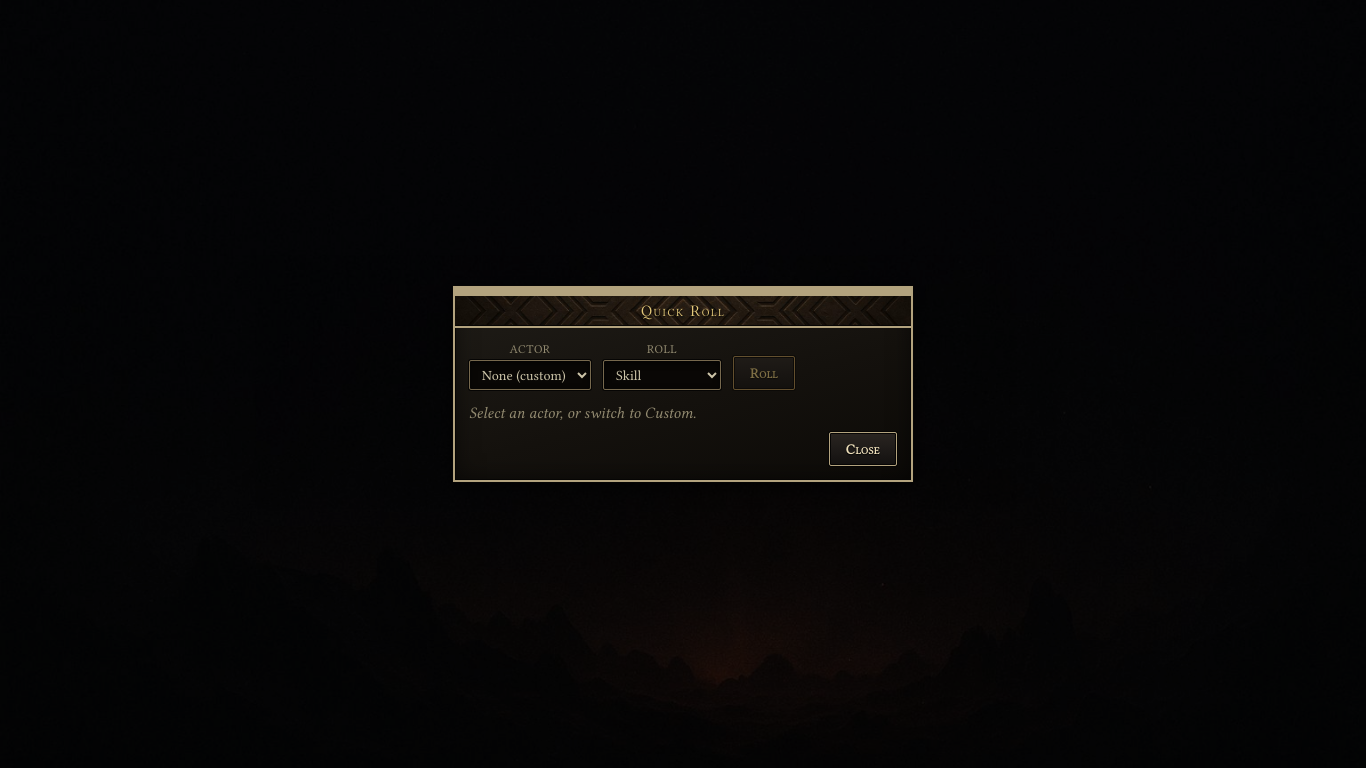
Test case: rolls a skill check with the modifier from the actor sheet
The image size is (1366, 768).
Select "Valeros" in the dropdown labelled "Actor": (530,375) [469,360,591,390]
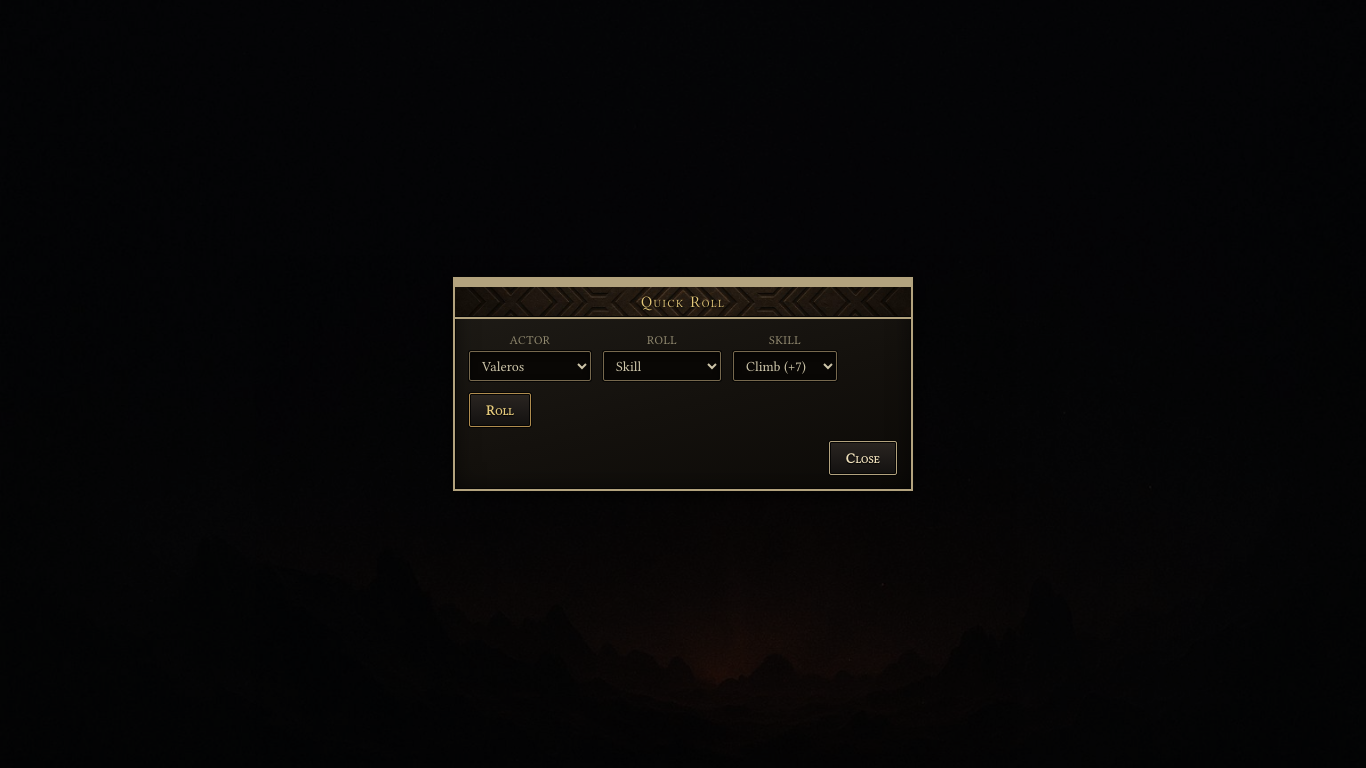
Select "Stealth (+2)" in the dropdown labelled "Skill": (785,366) [733,351,837,381]
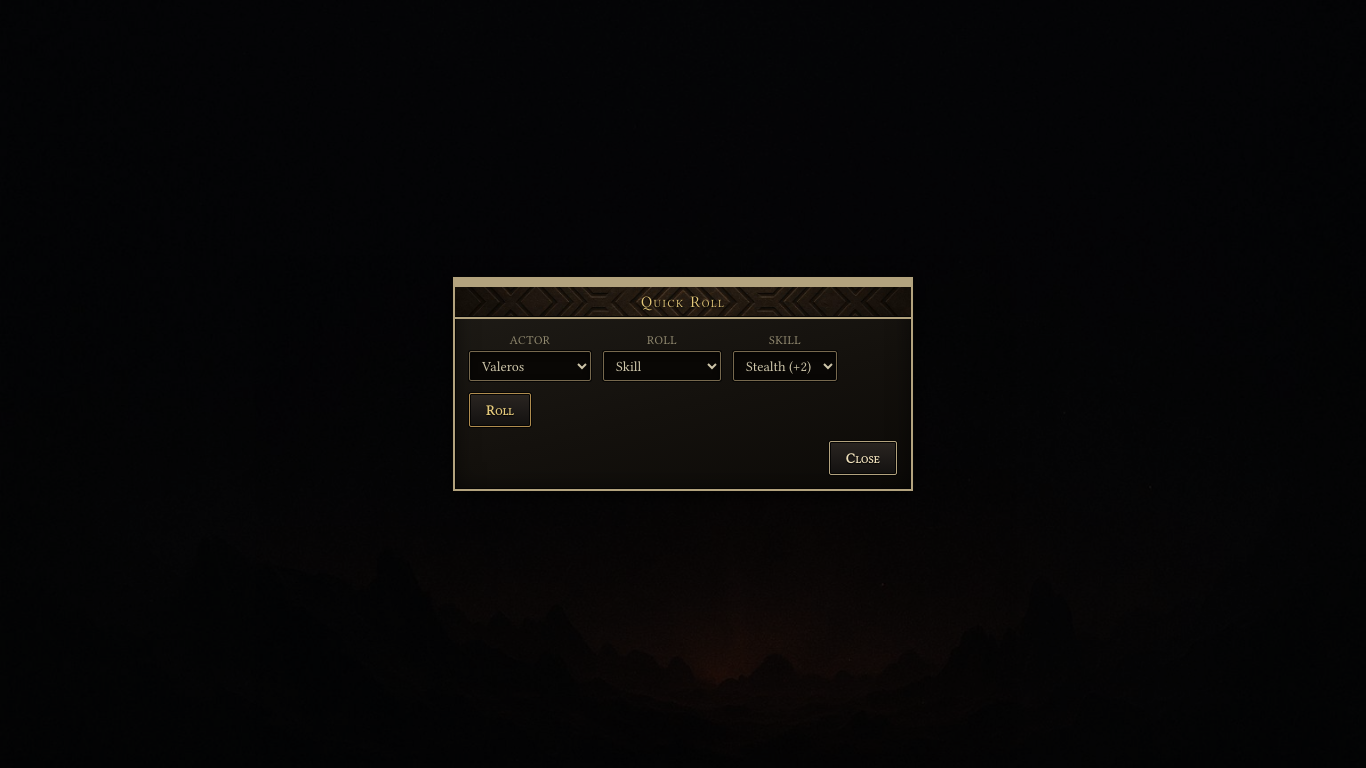
Click the button "Roll": (500,410) [469,393,531,427]
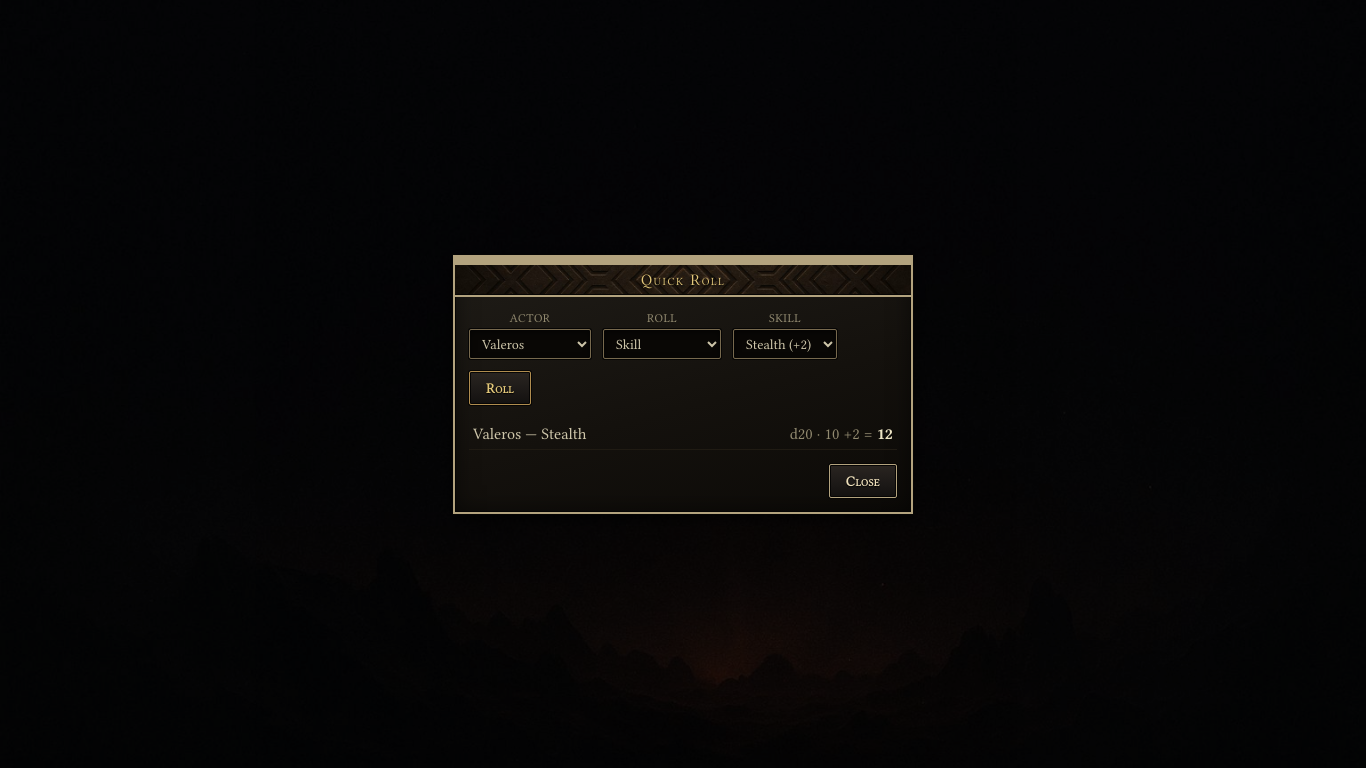
Expected: the text "Valeros — Stealth" is shown, [473,424,586,442]
Expected: the text "12" is shown, [876,424,893,442]
